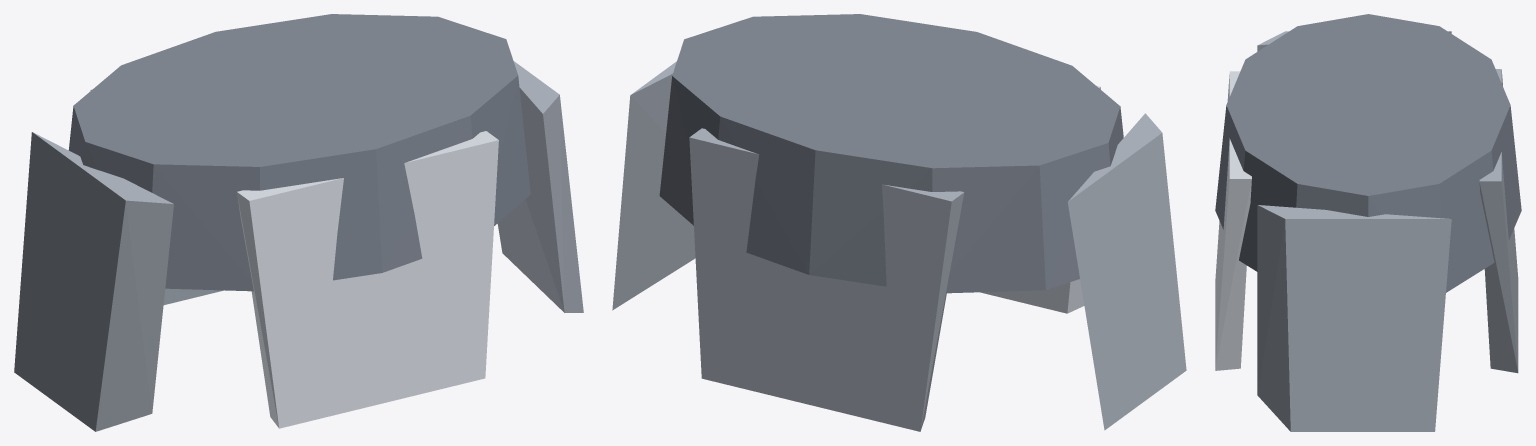
File: gear_steel_legs_hips_f.glb
3 views of the same model, side by side, from view 1: azimuth 30°, elevation 25°; view 2: azimuth 150°, elevation 25°; view 3: azimuth 270°, elevation 25° (orthographic). The views are drawn at different scales.
Parts seen in each view (by area): view 1: gear_steel_legs_hips_f; view 2: gear_steel_legs_hips_f; view 3: gear_steel_legs_hips_f.
Boxes of the visible parts, x1,y1,x2,y2 form: gear_steel_legs_hips_f: [14, 14, 583, 431]; gear_steel_legs_hips_f: [612, 14, 1186, 431]; gear_steel_legs_hips_f: [1215, 14, 1521, 431].
Bounding box in the file's own units: 0.45 × 0.22 × 0.276.
